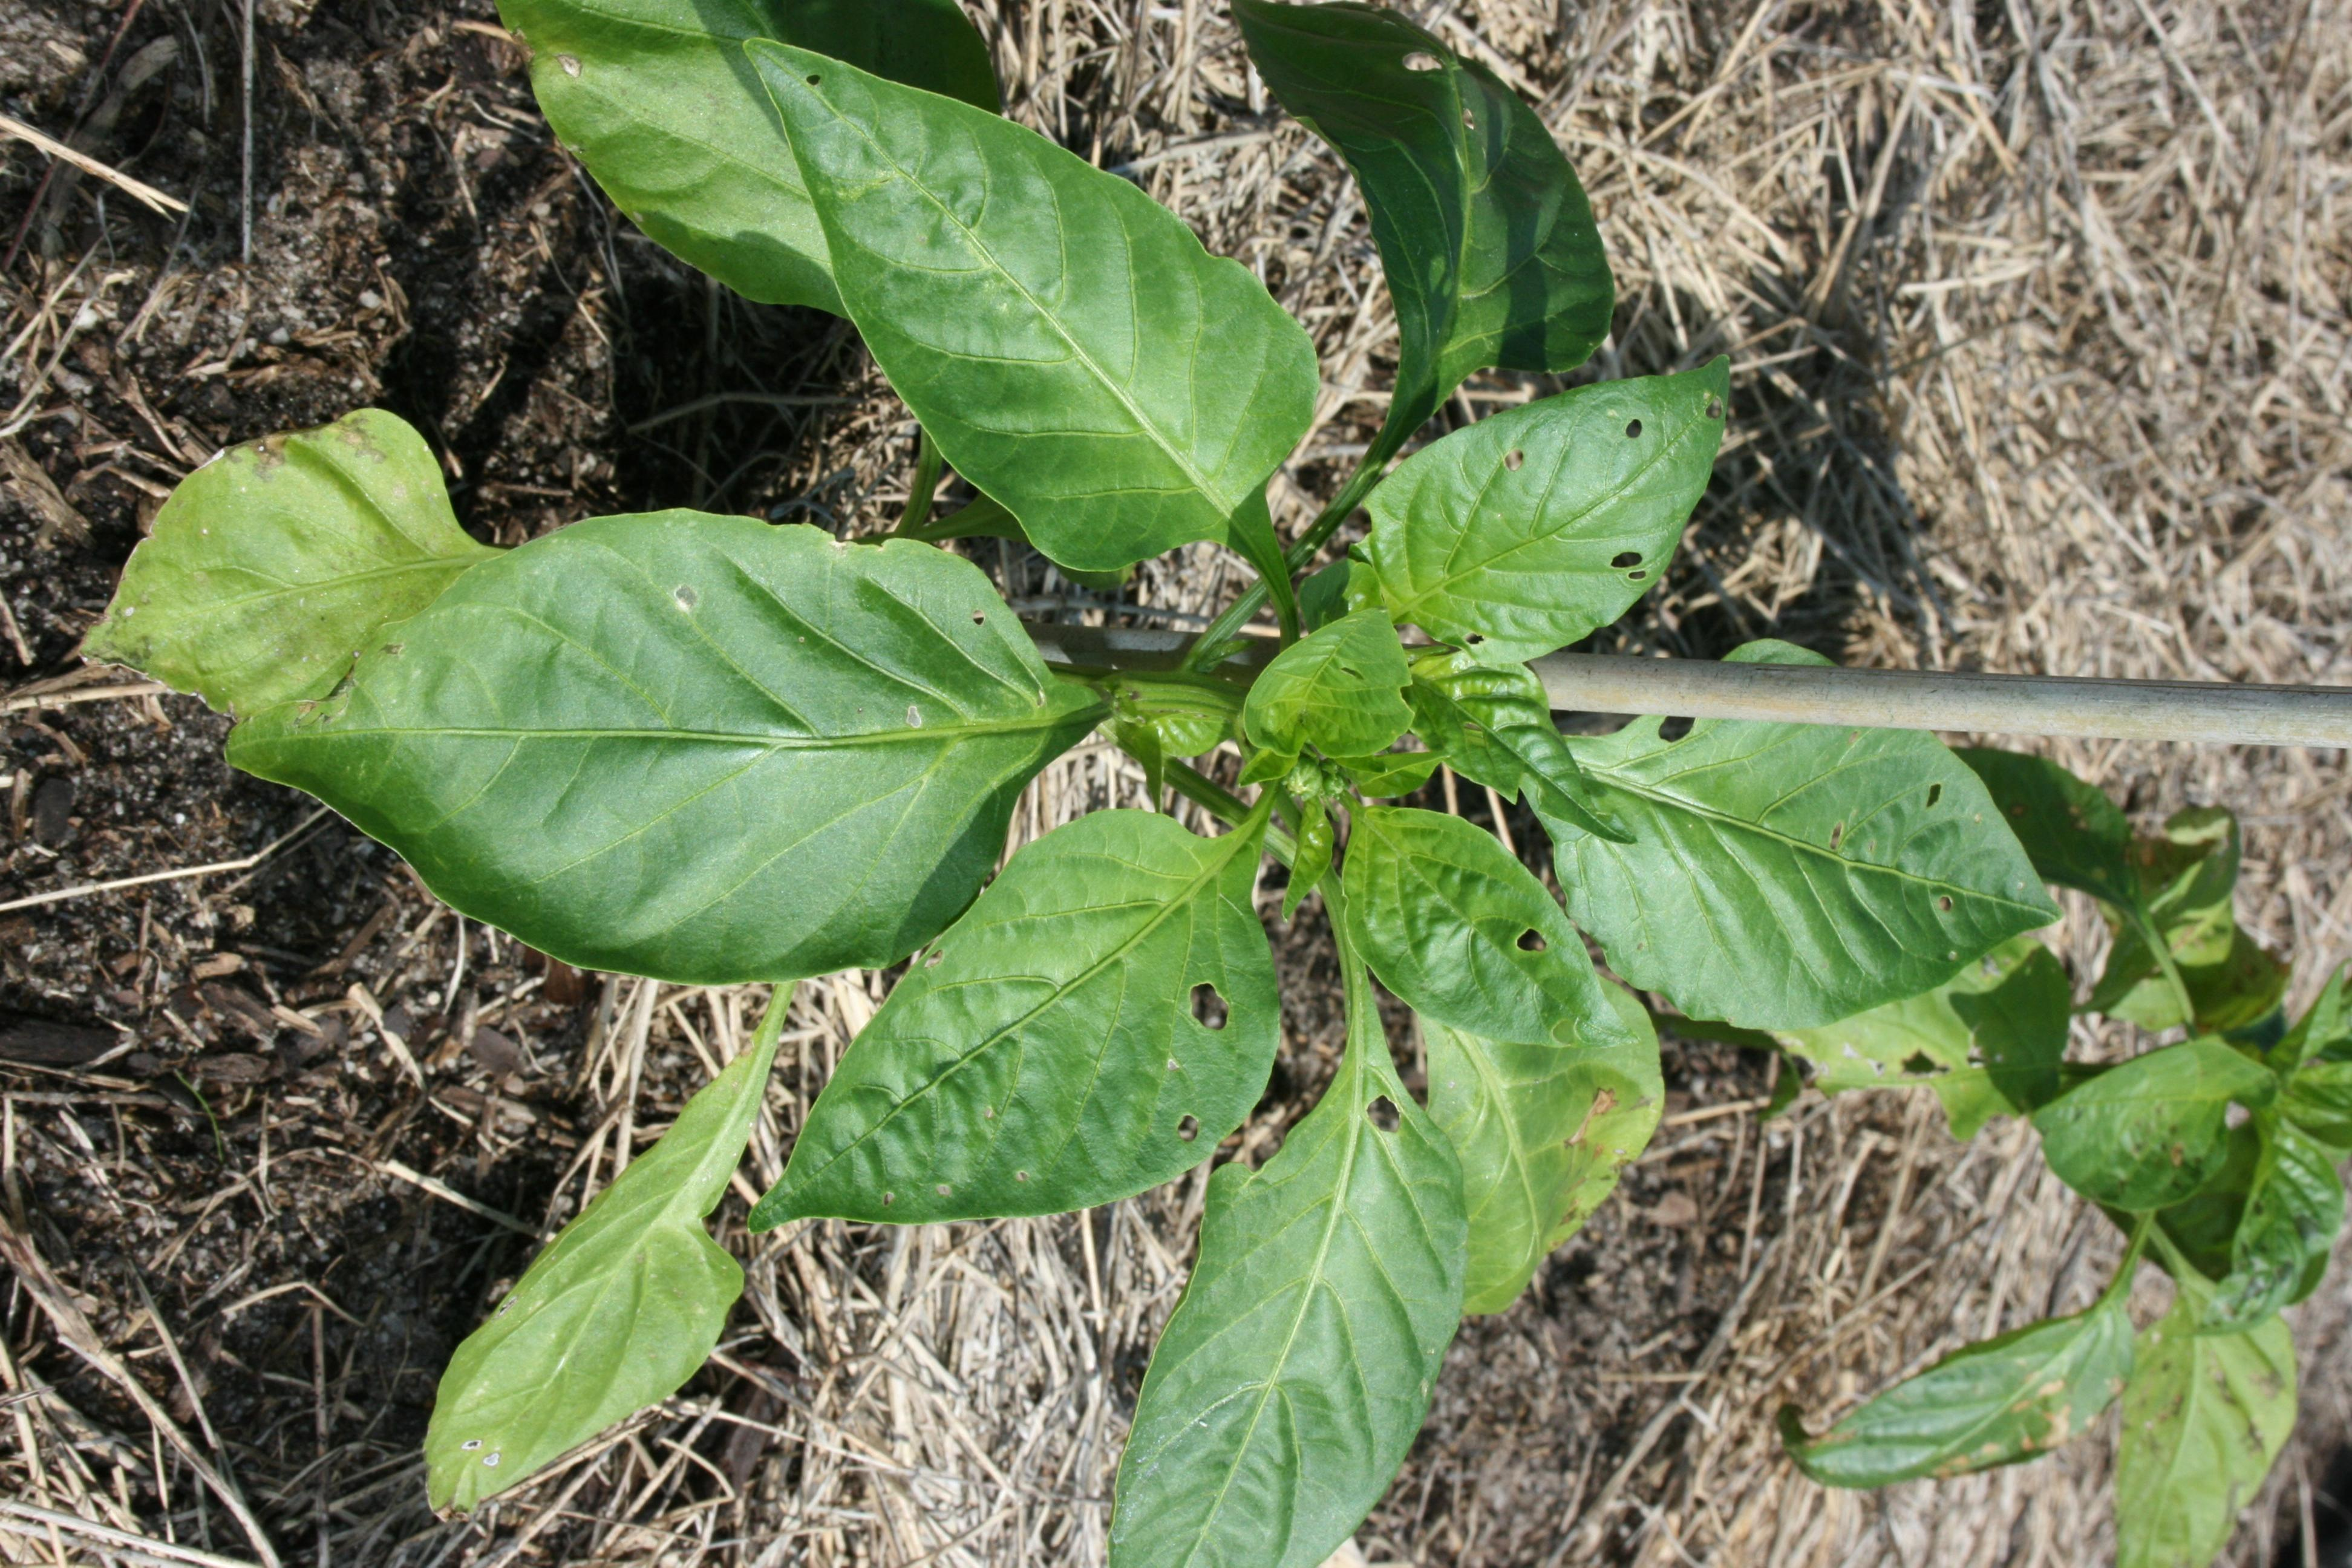Tomato leaf: (271, 532, 1060, 975), (749, 16, 1318, 600), (730, 810, 1300, 1326), (1092, 989, 1470, 1564), (427, 1001, 815, 1542), (1521, 695, 2065, 1059), (1351, 364, 1787, 649)
